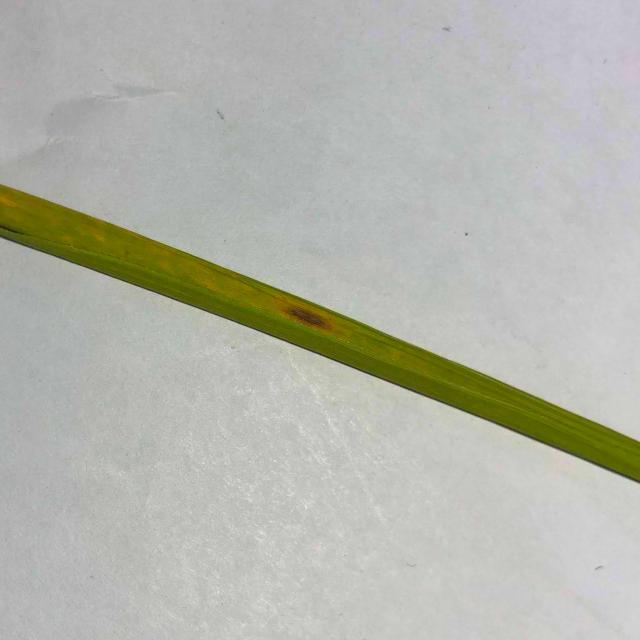brownspots: (277, 296, 342, 334)
